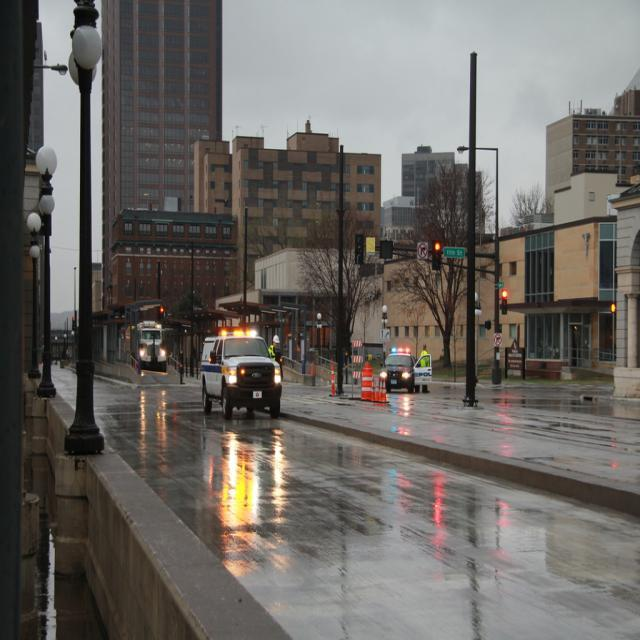traffic light: (433, 238, 443, 269), (502, 290, 509, 315)
